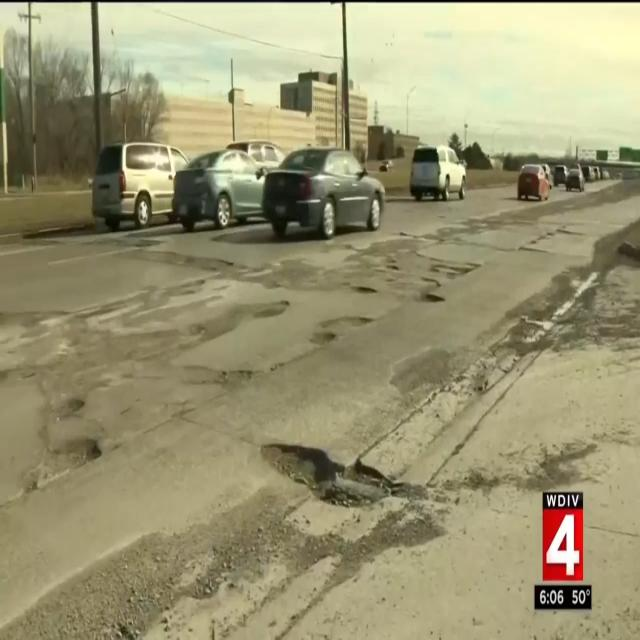Potholes: (346, 236, 480, 302)
pothole: (5, 371, 104, 496), (261, 443, 426, 507), (184, 364, 254, 385), (320, 316, 371, 329), (254, 300, 289, 317), (310, 329, 338, 344), (424, 292, 446, 301)
